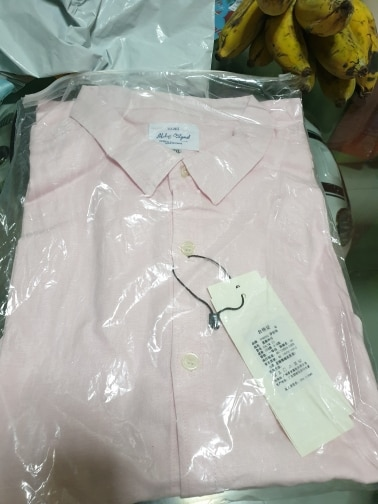shirts: (31, 84, 356, 471)
